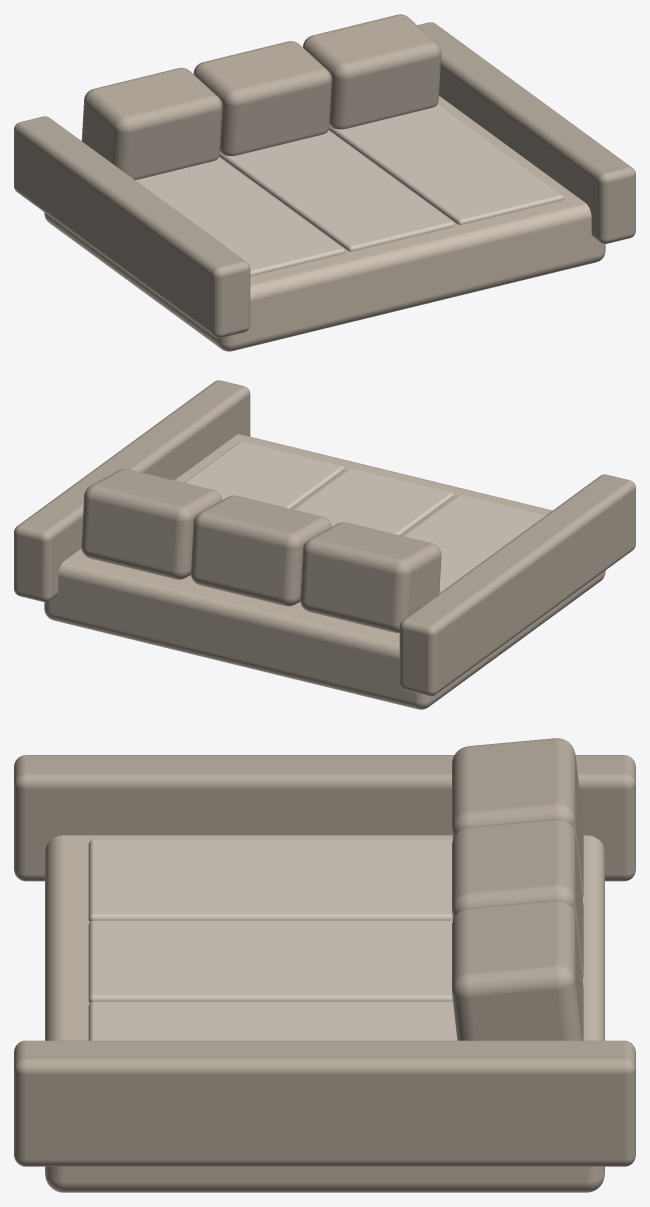
File: justb-pm100.glb
The picture shows the model from 3 angles, top to bottom: view 1: azimuth 30°, elevation 25°; view 2: azimuth 150°, elevation 25°; view 3: azimuth 270°, elevation 25°; orthographic projection. The views are drawn at different scales.
Parts seen in each view (by area): view 1: seat-base, arm-left, arm-right, seat-cushion-2, seat-cushion-3, back-cushion-1, back-cushion-3, back-cushion-2, seat-cushion-1; view 2: seat-base, arm-left, arm-right, back-cushion-1, back-cushion-2, back-cushion-3, seat-cushion-2, seat-cushion-3, seat-cushion-1; view 3: arm-right, arm-left, seat-base, seat-cushion-1, seat-cushion-2, back-cushion-3, seat-cushion-3, back-cushion-2, back-cushion-1.
Part boxes in pixels (left/top/right/bottom): seat-base: left=44, top=96, right=605, bottom=351; arm-left: left=14, top=116, right=250, bottom=338; arm-right: left=417, top=22, right=635, bottom=243; seat-cushion-2: left=219, top=131, right=454, bottom=251; seat-cushion-3: left=328, top=104, right=563, bottom=224; back-cushion-1: left=81, top=67, right=222, bottom=180; back-cushion-3: left=303, top=14, right=441, bottom=129; back-cushion-2: left=193, top=41, right=331, bottom=155; seat-cushion-1: left=135, top=157, right=344, bottom=276; seat-base: left=44, top=434, right=605, bottom=709; arm-left: left=399, top=474, right=635, bottom=696; arm-right: left=14, top=380, right=250, bottom=601; back-cushion-1: left=300, top=522, right=441, bottom=632; back-cushion-2: left=191, top=495, right=331, bottom=606; back-cushion-3: left=81, top=468, right=222, bottom=579; seat-cushion-2: left=294, top=468, right=454, bottom=535; seat-cushion-3: left=184, top=441, right=344, bottom=508; seat-cushion-1: left=403, top=494, right=545, bottom=593; arm-right: left=14, top=1040, right=635, bottom=1166; arm-left: left=14, top=755, right=635, bottom=881; seat-base: left=45, top=835, right=604, bottom=1192; seat-cushion-1: left=88, top=839, right=452, bottom=921; seat-cushion-2: left=88, top=920, right=452, bottom=1002; back-cushion-3: left=452, top=900, right=583, bottom=1040; seat-cushion-3: left=88, top=1001, right=457, bottom=1040; back-cushion-2: left=452, top=819, right=583, bottom=978; back-cushion-1: left=452, top=738, right=583, bottom=897.
Size of the model in its own units: 2.76 by 0.8687 by 2.32.
